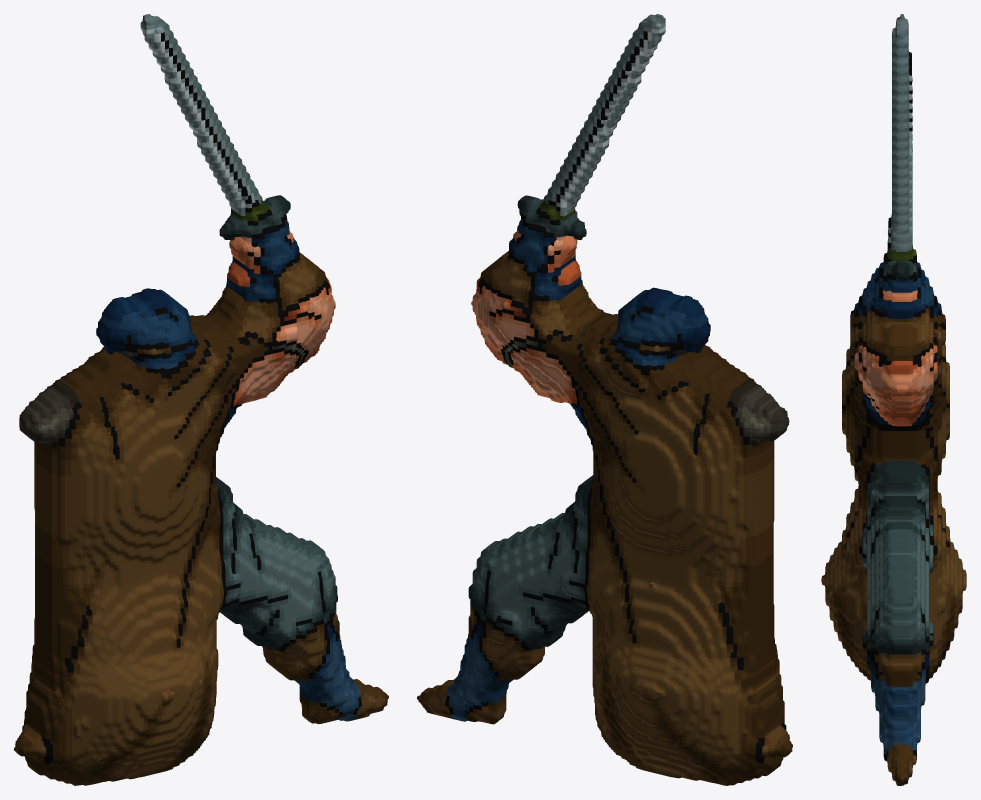
File: Fight_713_2_02.obj
The picture shows the model from 3 angles, left to right: view 1: azimuth 30°, elevation 25°; view 2: azimuth 150°, elevation 25°; view 3: azimuth 270°, elevation 25°; orthographic projection. The views are drawn at different scales.
Bounding box in the file's own units: 9.26 × 17.78 × 3.5.
1 material, 1 textured.
